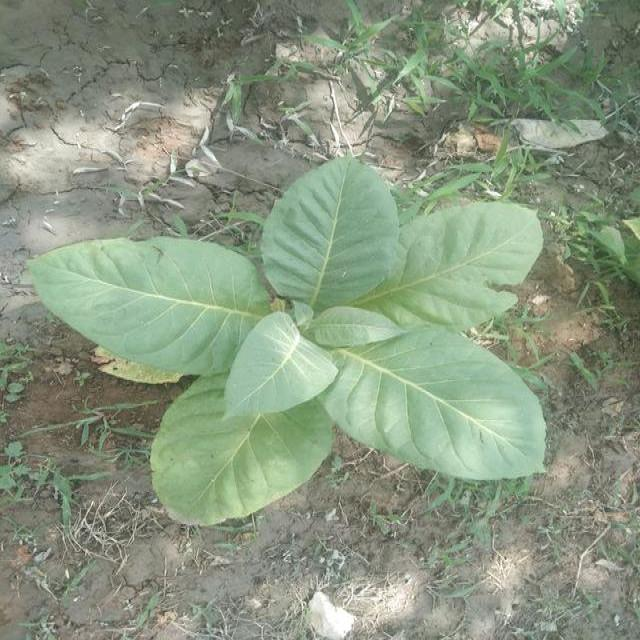crop: (20, 150, 568, 529)
